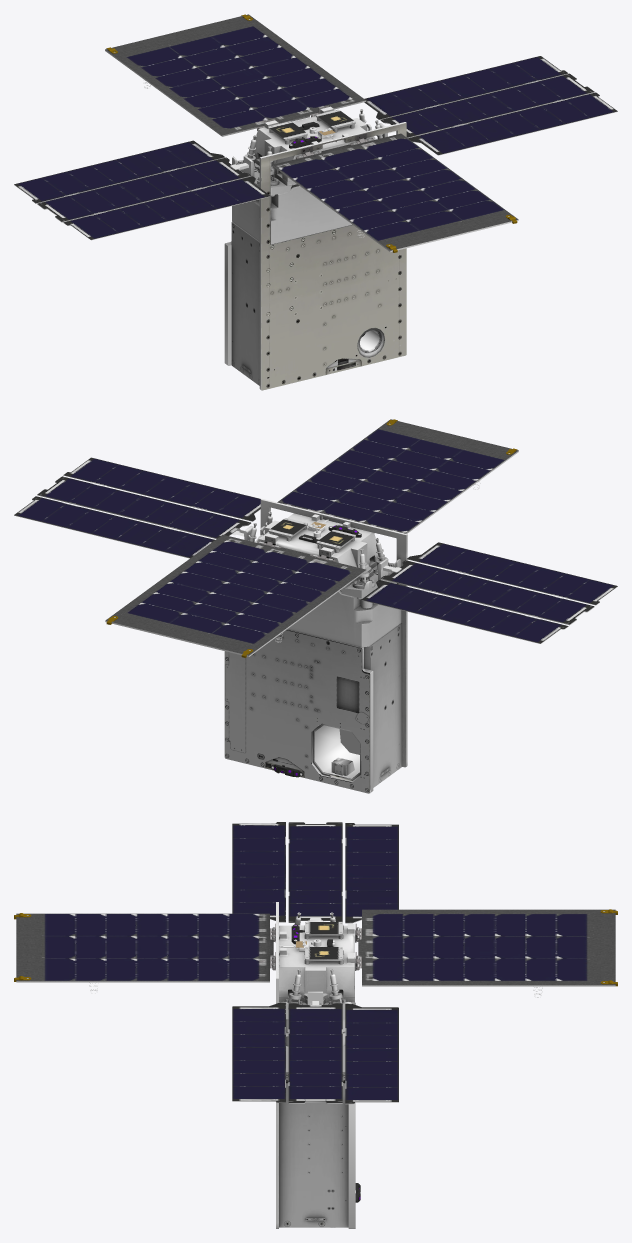
File: lunar_flashlight.gltf
3 views of the same model, one above another, from view 1: azimuth 30°, elevation 25°; view 2: azimuth 150°, elevation 25°; view 3: azimuth 270°, elevation 25° (orthographic). The views are drawn at different scales.
Parts seen in each view (by area): view 1: baked_LP, baked_LP.001, baked_LP.002, lunar_flashlight; view 2: baked_LP, baked_LP.001, baked_LP.002, lunar_flashlight; view 3: baked_LP, baked_LP.002, baked_LP.001, lunar_flashlight.
Part boxes in pixels (x1=…): baked_LP: x1=105, y1=14, x2=518, y2=390; baked_LP.001: x1=14, y1=140, x2=270, y2=240; baked_LP.002: x1=364, y1=56, x2=617, y2=155; lunar_flashlight: x1=105, y1=50, x2=518, y2=389; baked_LP: x1=105, y1=419, x2=518, y2=793; baked_LP.001: x1=361, y1=542, x2=617, y2=643; baked_LP.002: x1=14, y1=457, x2=260, y2=558; lunar_flashlight: x1=105, y1=451, x2=518, y2=792; baked_LP: x1=16, y1=909, x2=615, y2=1227; baked_LP.002: x1=232, y1=1002, x2=398, y2=1104; baked_LP.001: x1=232, y1=822, x2=398, y2=923; lunar_flashlight: x1=16, y1=902, x2=615, y2=1228.
Size of the model in its own units: 0.8745 by 0.365 by 0.7959.
Materials: 11 (3 with a texture image).
